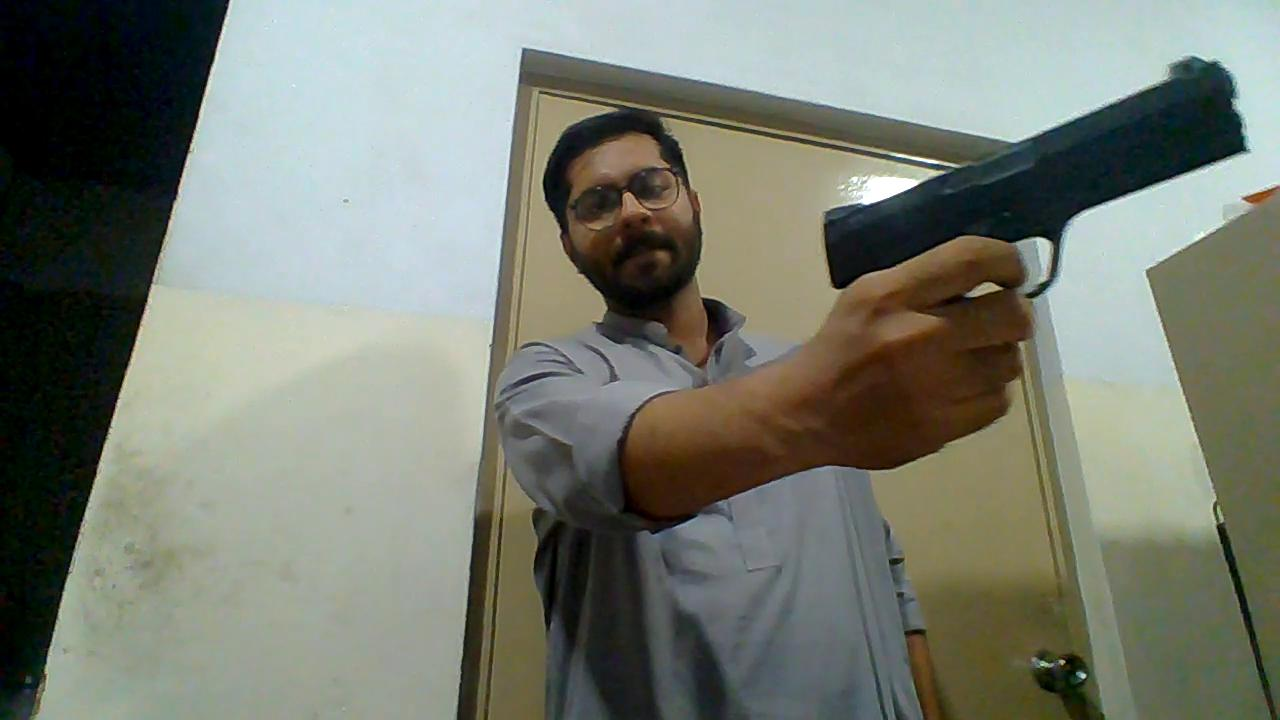criminal: (495, 50, 1254, 720)
weapon: (816, 52, 1253, 315)
